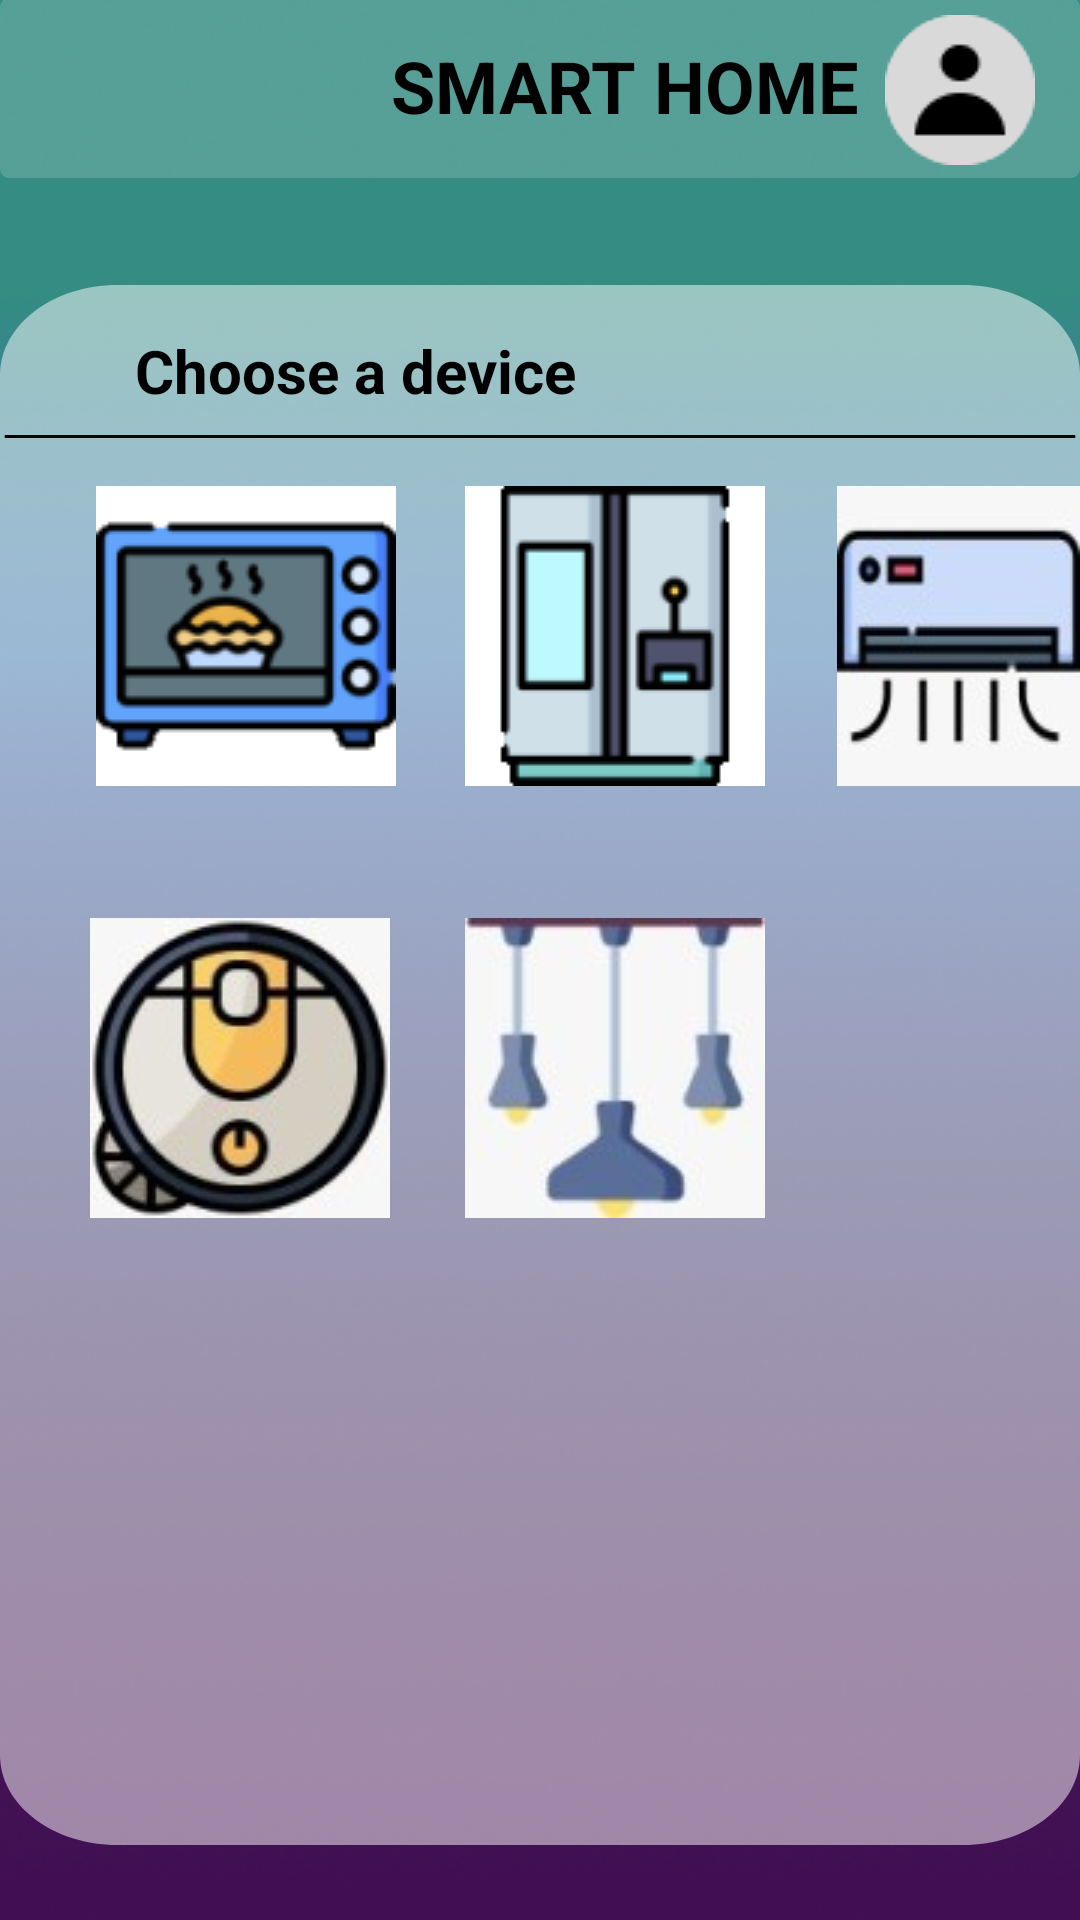

Screen size 1080x1920. Icon name, then its box in pixels as (x1, y1, x2, y2):
air cond: (837, 486, 1080, 786)
fridge: (465, 486, 765, 786)
lamp: (465, 918, 765, 1218)
user: (885, 15, 1035, 165)
vaccum: (90, 918, 390, 1218)
